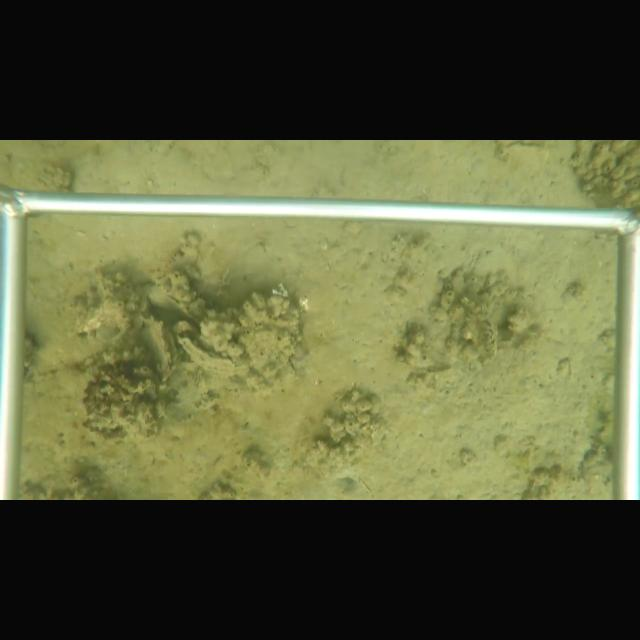Oyster-Closed: (177, 333, 239, 380)
Oyster-Open: (139, 314, 180, 387)
